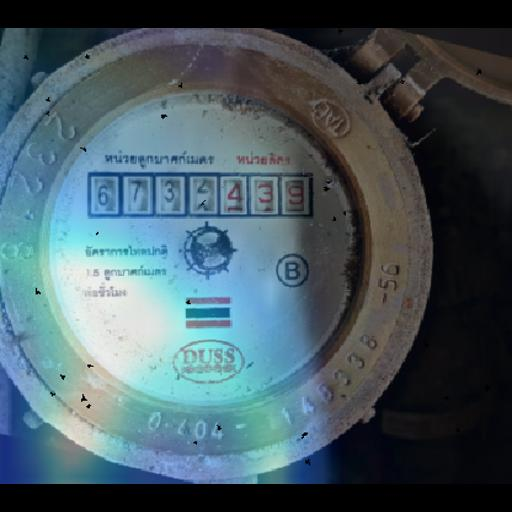2: (195, 180, 213, 212)
3: (255, 179, 274, 213), (162, 180, 181, 212)
4: (225, 180, 244, 214)
6: (96, 181, 115, 212)
7: (128, 180, 149, 212)
9: (285, 181, 305, 211)
border_water_meter_number: (88, 172, 314, 218)
